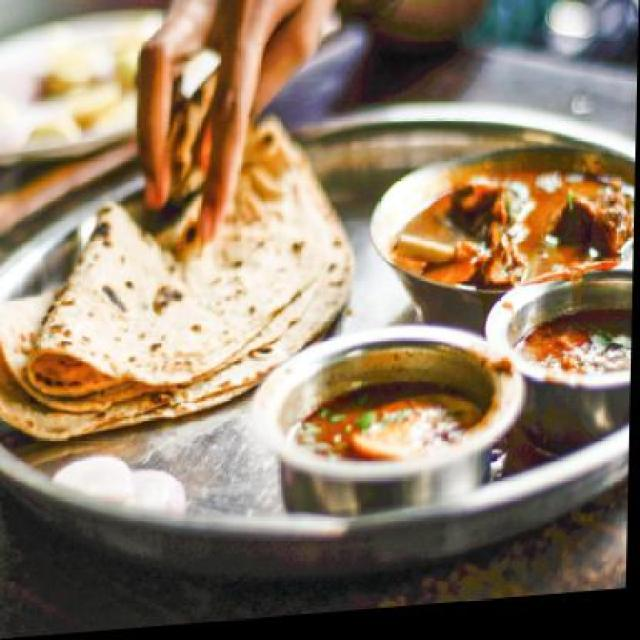chapati: (0, 116, 358, 443)
